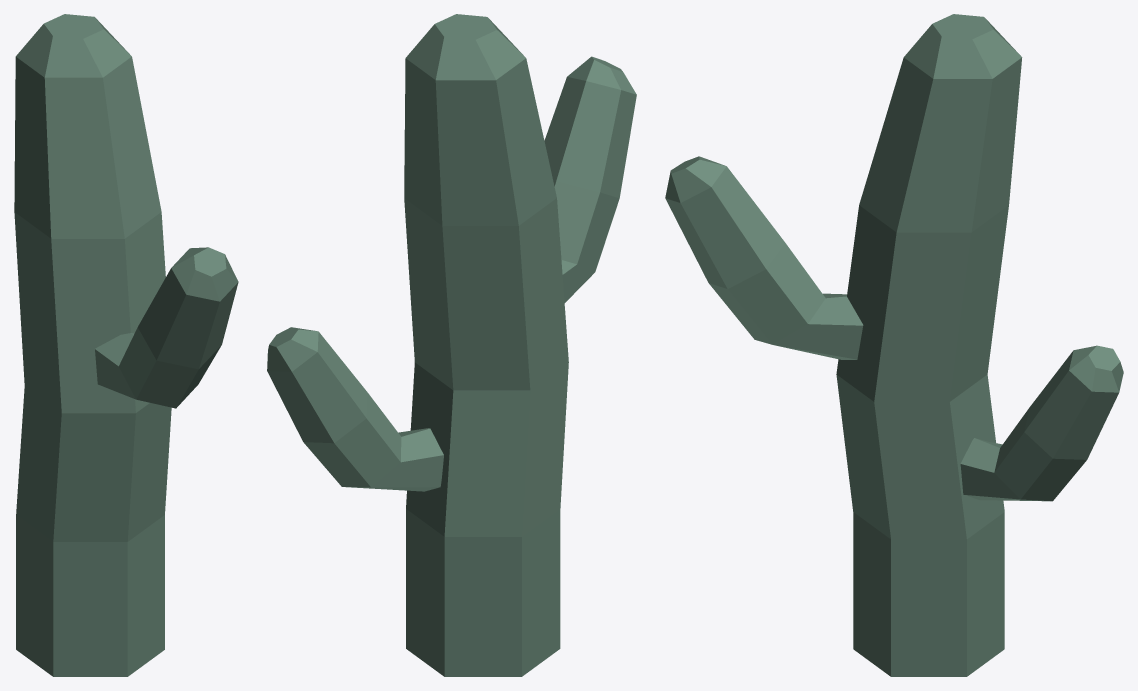
Rendered from cactus1.glb.
3 renders of one model, left to right at view 1: azimuth 30°, elevation 25°; view 2: azimuth 150°, elevation 25°; view 3: azimuth 270°, elevation 25°, orthographic. The views are drawn at different scales.
Visible parts, largest first — view 1: Cactus1; view 2: Cactus1; view 3: Cactus1.
Boxes of the visible parts, <box> form: Cactus1: <box>14,14,238,676</box>; Cactus1: <box>267,14,636,676</box>; Cactus1: <box>665,14,1123,676</box>.
Size of the model in its own units: 1.14 by 3.62 by 2.42.
